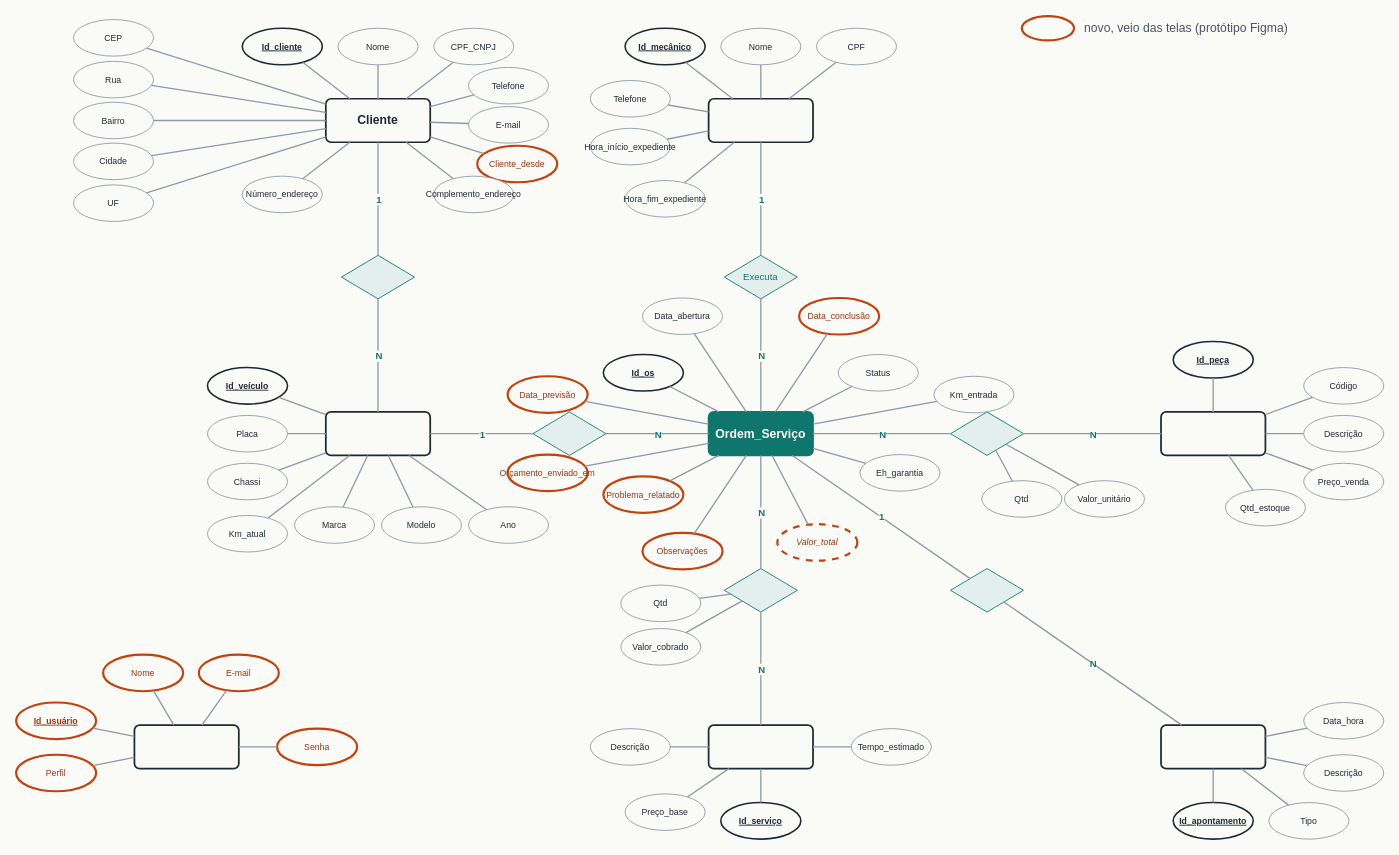
Some shapes in this 1399 by 855 pixel diagram are drawn without their labels. The shapes that lost their labels are listed below. From the top down, each one's box as (x1, y1, x2, y2) in pixels, then its label:
(707, 97, 813, 143): Mecânico
(341, 254, 415, 299): Possui
(325, 411, 431, 456): Veículo
(532, 411, 606, 455): Recebe
(950, 411, 1024, 455): Utiliza
(1160, 411, 1266, 456): Peça
(723, 568, 797, 612): Inclui
(950, 568, 1024, 612): Registra
(133, 724, 239, 769): Usuário
(707, 724, 813, 769): Serviço
(1160, 724, 1266, 769): Apontamento
